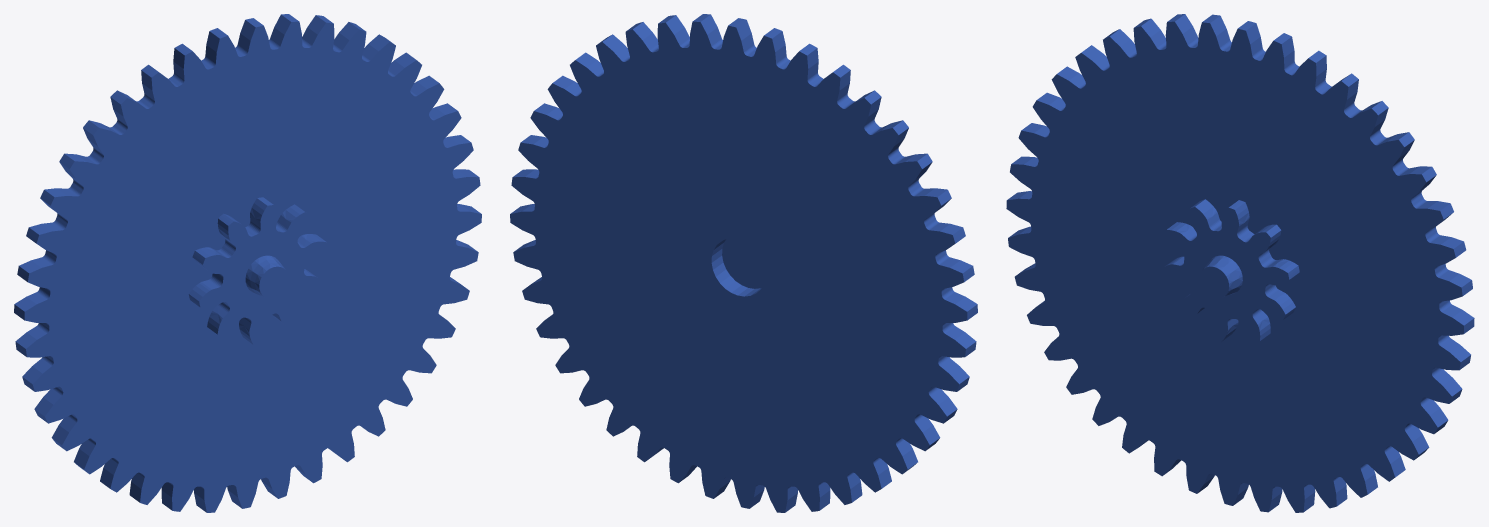
The model's file is Spur_gear_40_teeth_1.glb.
3 views of the same model, side by side, from view 1: azimuth 30°, elevation 25°; view 2: azimuth 150°, elevation 25°; view 3: azimuth 330°, elevation 25° (orthographic).
Visible parts, largest first — view 1: Spur gear (40 teeth)_1; view 2: Spur gear (40 teeth)_1; view 3: Spur gear (40 teeth)_1.
Boxes of the visible parts, box(x1,y1,x2,y2) form: Spur gear (40 teeth)_1: box(14, 14, 481, 512); Spur gear (40 teeth)_1: box(510, 14, 977, 512); Spur gear (40 teeth)_1: box(1006, 14, 1474, 512).
Size of the model in its own units: 25.2 by 25.2 by 3.
